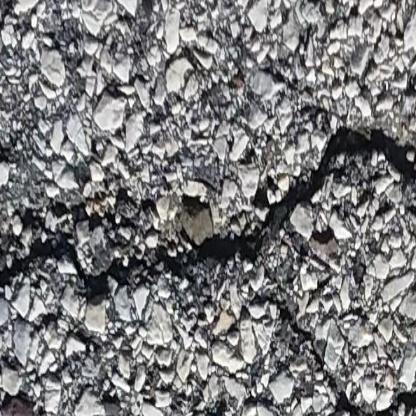Cracks: (0, 119, 416, 328), (230, 292, 416, 416), (197, 399, 233, 416)
